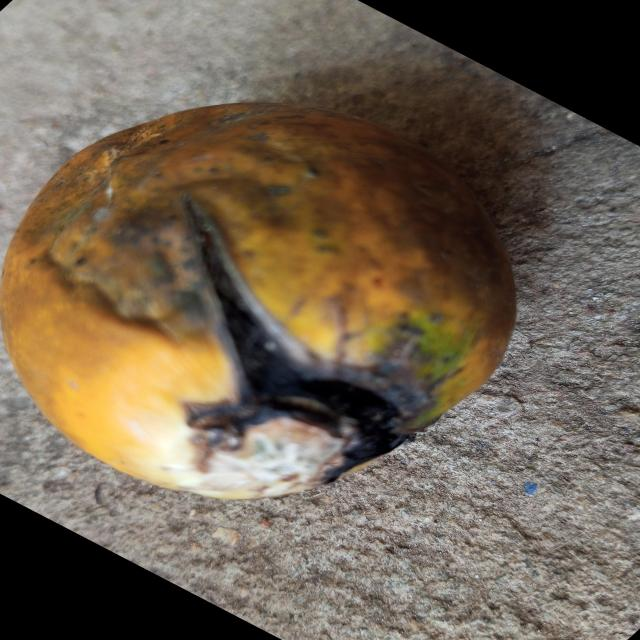damaged: (2, 104, 515, 499)
